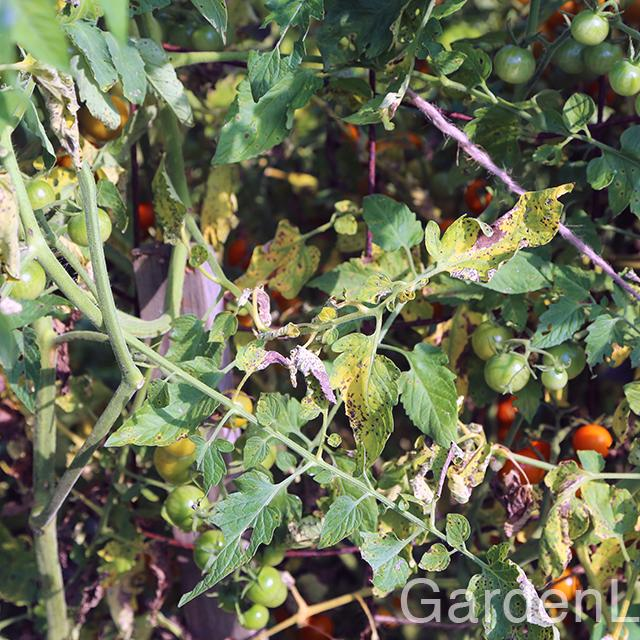Tomato Early blight leaf: (421, 182, 578, 286), (216, 67, 315, 166), (332, 334, 401, 464), (110, 390, 232, 449), (395, 345, 464, 449), (588, 128, 640, 239), (241, 226, 319, 295), (310, 258, 398, 301)
